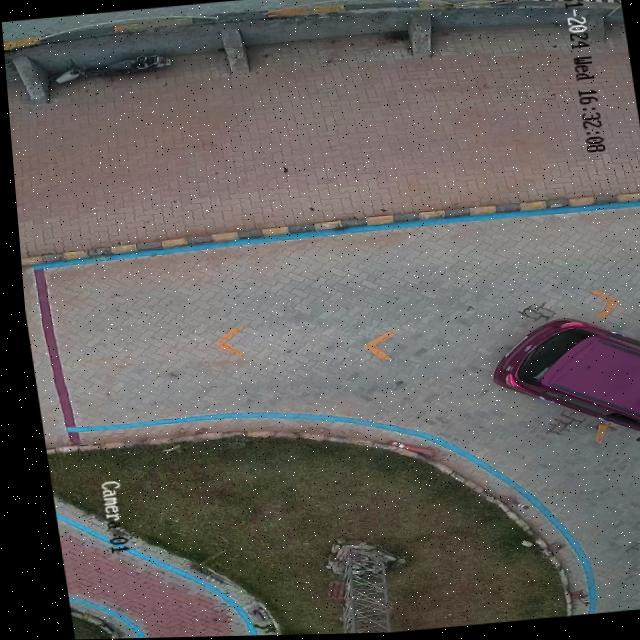car: (485, 320, 640, 442)
